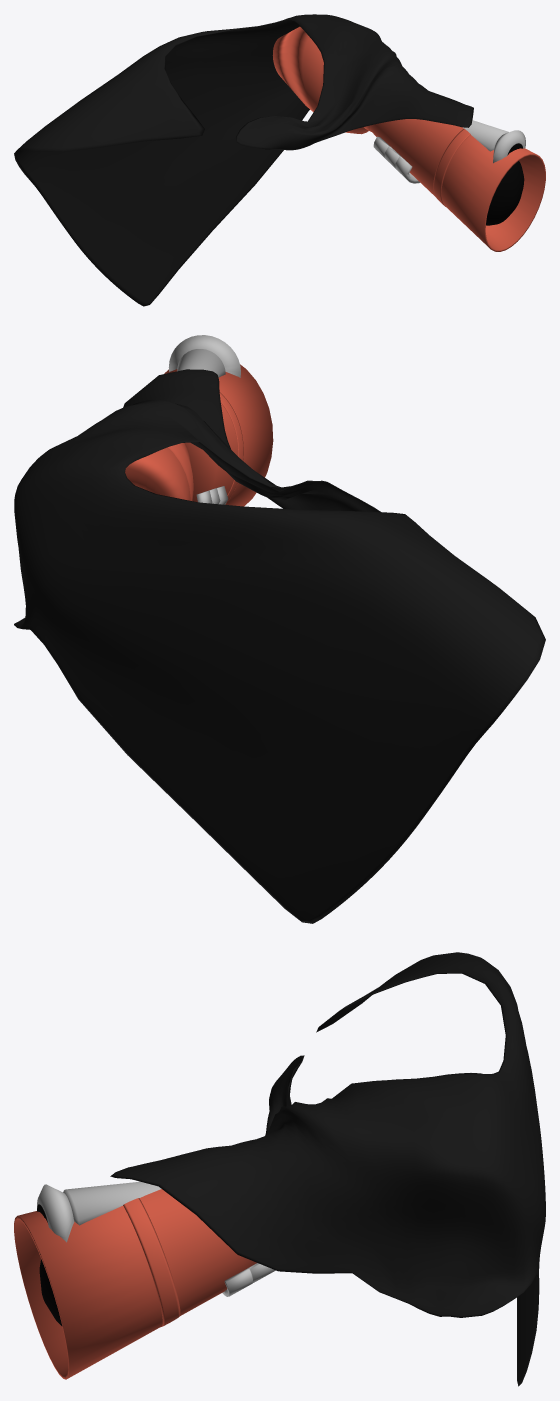
The model's file is Bazooka.fbx.
3 renders of one model, top to bottom at view 1: azimuth 30°, elevation 25°; view 2: azimuth 150°, elevation 25°; view 3: azimuth 270°, elevation 25°, orthographic. The views are drawn at different scales.
Parts seen in each view (by area): view 1: Poncho.001, Bazooka.001, Hombro.001; view 2: Poncho.001, Bazooka.001, Hombro.001; view 3: Poncho.001, Bazooka.001.
Boxes of the visible parts, x1=… form: Poncho.001: x1=14, y1=14, x2=473, y2=306; Bazooka.001: x1=364, y1=119, x2=545, y2=251; Hombro.001: x1=272, y1=26, x2=368, y2=134; Poncho.001: x1=14, y1=369, x2=545, y2=923; Bazooka.001: x1=164, y1=335, x2=273, y2=506; Hombro.001: x1=125, y1=443, x2=193, y2=500; Poncho.001: x1=110, y1=952, x2=545, y2=1386; Bazooka.001: x1=14, y1=1181, x2=275, y2=1379.
Size of the model in its own units: 1.71 by 1.1 by 1.27.
